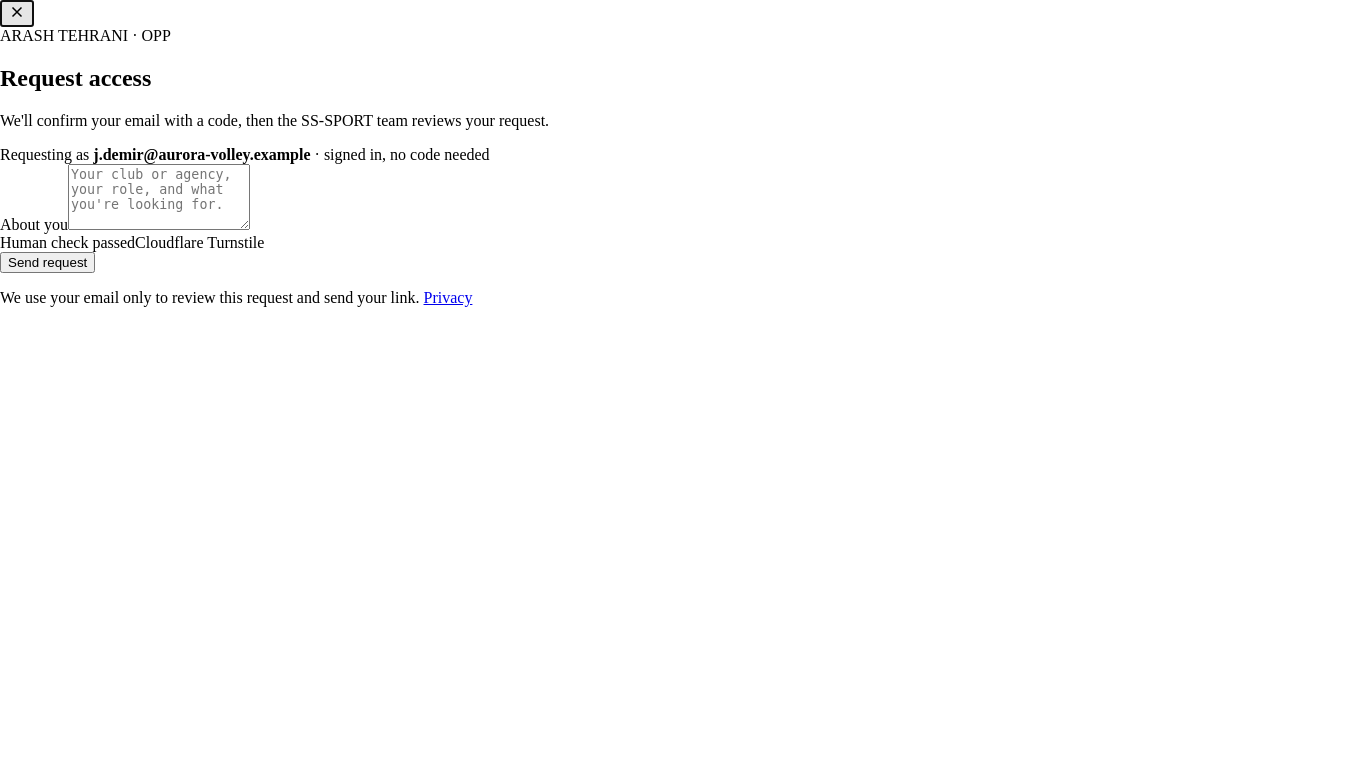
it: RequestAccessModal, signed in (P-7) › sends the request in one click, straight to the confirmation
Type "Head scout at Club Aurora" into the text box labelled "About you".
click(159, 197); type("Head scout at Club Aurora")  # box 68,164 -> 250,230
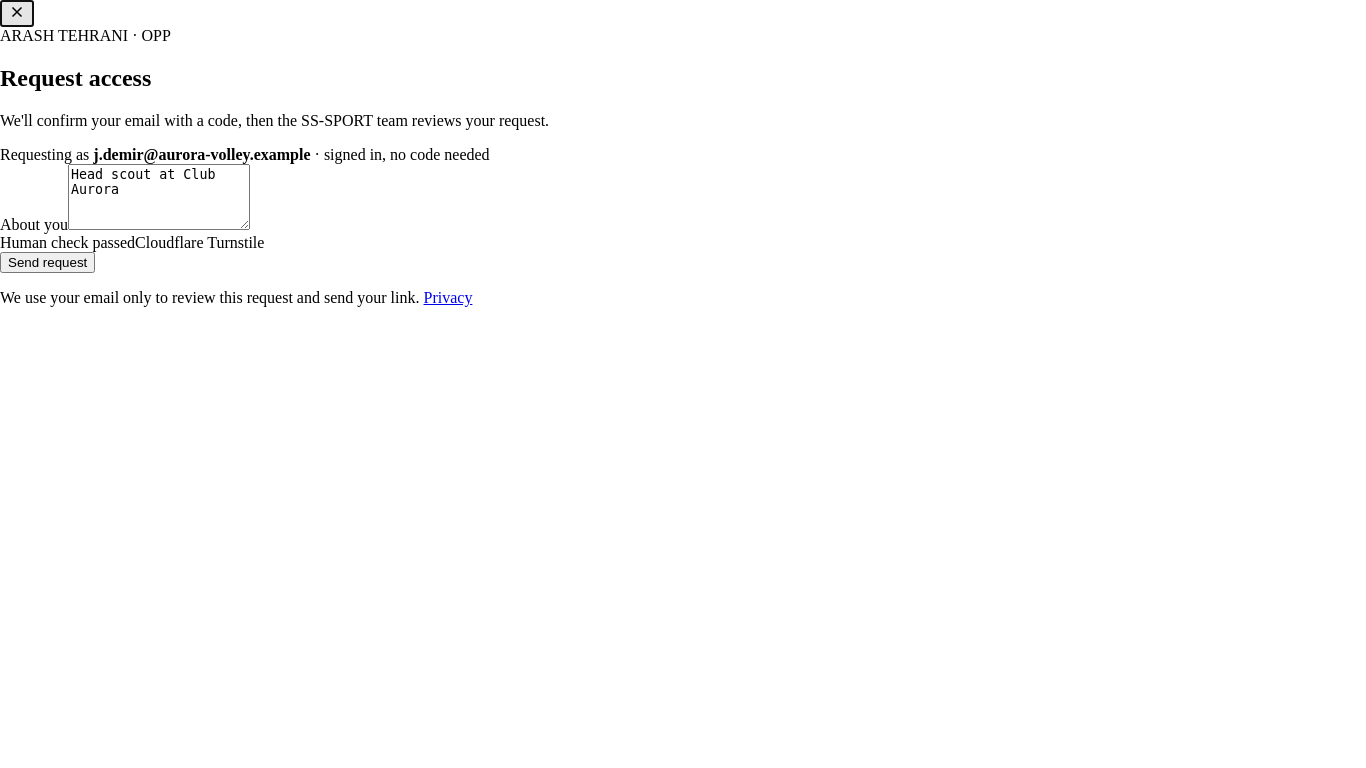
Click the button "Send request".
click(48, 262)  # box 0,252 -> 95,273
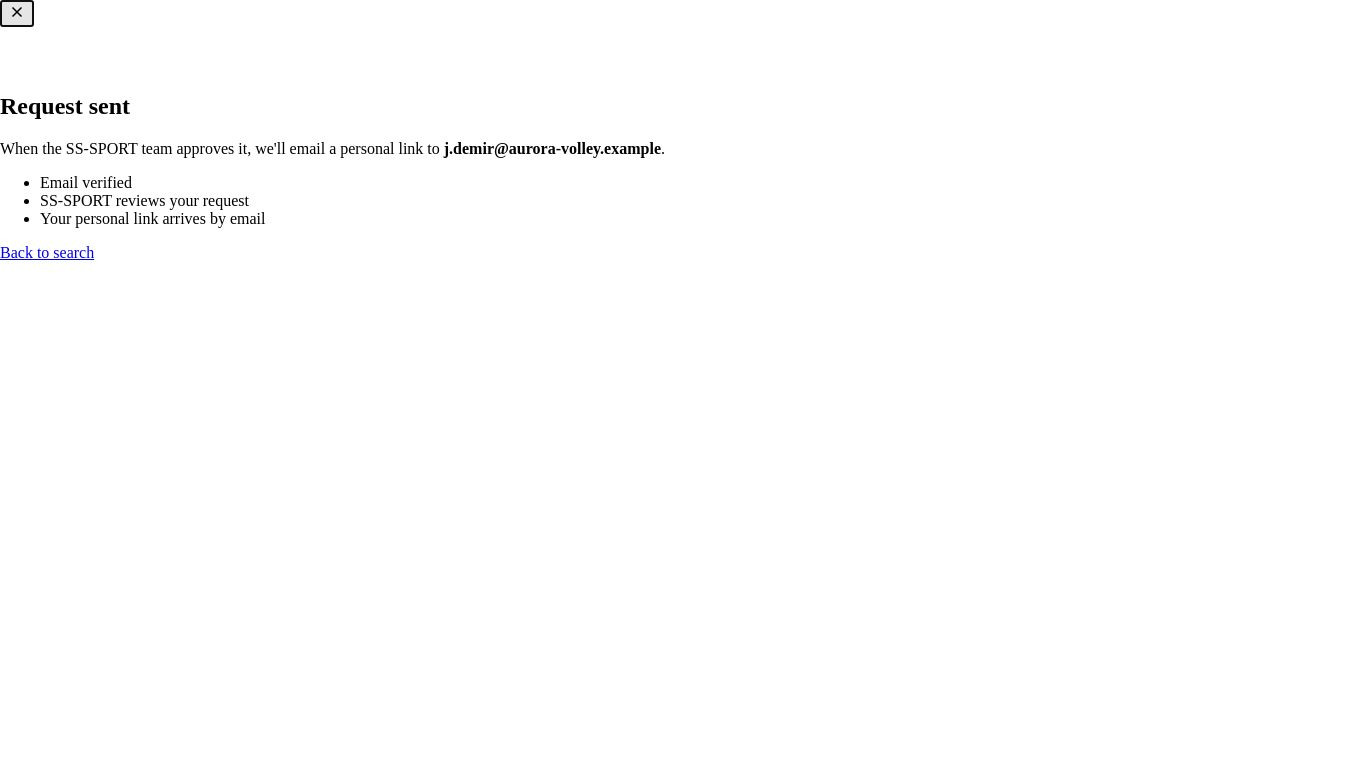
expect the text "j.demir@aurora-volley.example" is shown: met, box 444,140 -> 661,157
expect the heading "Request sent" is shown: met, box 0,93 -> 130,119
